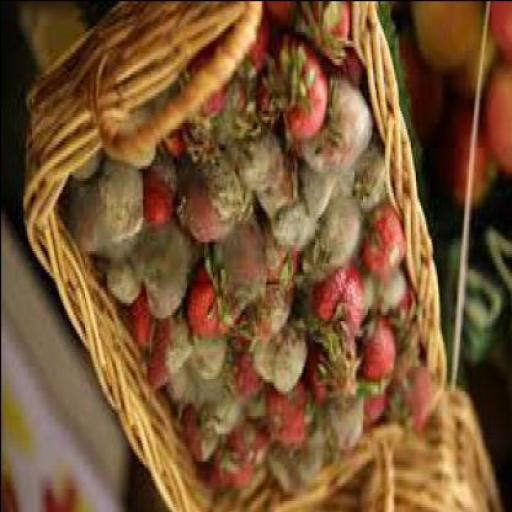biodegradable: (66, 161, 142, 254), (432, 101, 496, 210), (203, 226, 265, 332), (302, 86, 374, 176), (174, 158, 242, 247), (273, 36, 326, 150), (406, 2, 480, 76), (397, 30, 442, 144), (184, 250, 238, 341), (14, 2, 80, 76), (140, 225, 190, 320), (309, 264, 362, 350), (304, 323, 353, 412), (249, 314, 302, 396), (142, 311, 190, 393), (480, 55, 510, 180), (295, 3, 350, 70), (385, 359, 432, 436), (447, 22, 492, 100), (358, 204, 403, 281), (184, 40, 222, 131), (223, 314, 259, 405), (270, 192, 316, 262), (355, 320, 395, 399), (194, 442, 252, 496), (228, 131, 276, 195), (218, 74, 260, 144), (139, 150, 174, 232), (289, 161, 333, 225), (265, 387, 309, 451), (342, 146, 384, 213), (251, 161, 293, 225), (324, 396, 364, 463), (236, 18, 272, 92), (292, 414, 327, 488), (102, 253, 142, 311), (202, 381, 240, 442), (265, 448, 300, 506), (178, 415, 215, 469), (189, 335, 229, 384), (391, 326, 418, 393), (323, 49, 358, 100), (368, 271, 404, 320), (67, 143, 102, 192), (232, 420, 264, 470), (259, 4, 294, 46), (166, 372, 201, 414), (388, 286, 414, 342), (130, 296, 152, 350), (486, 3, 511, 49), (360, 393, 385, 439), (158, 128, 183, 165), (244, 400, 266, 430), (497, 46, 510, 68)
